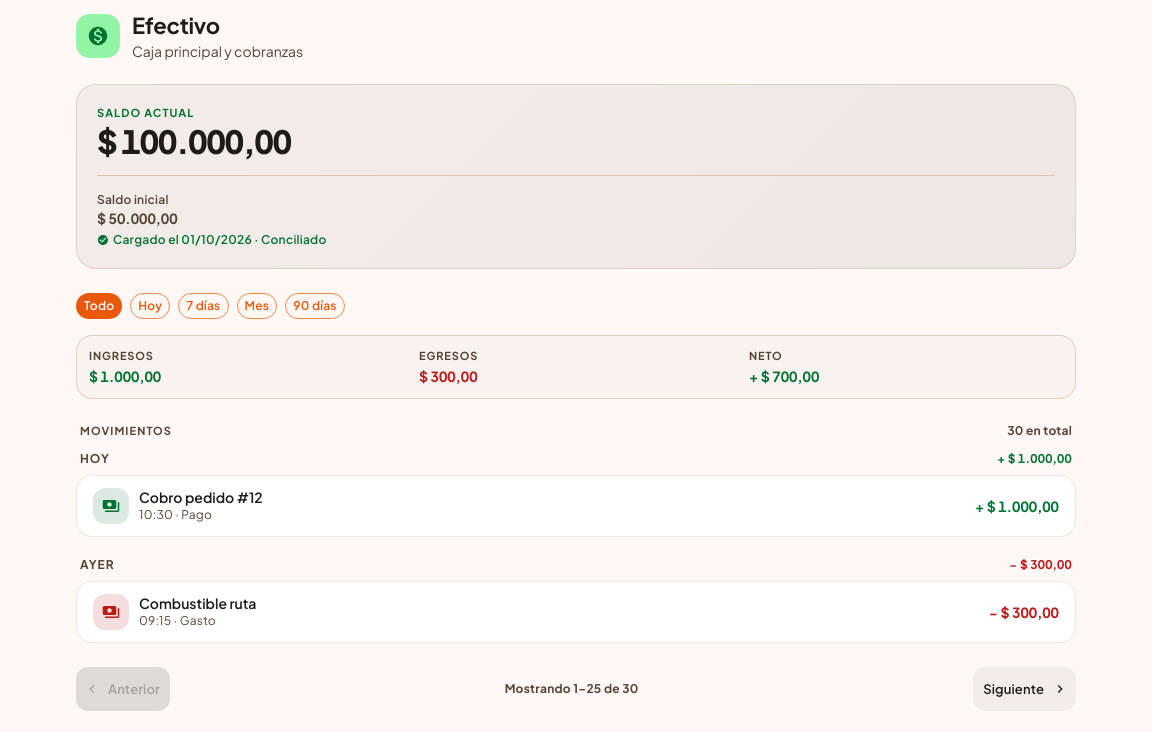
Test: AccountDetailPage — per-account ledger › requests the account with the selected preset and resets pagination
Expected: the text "Mostrando 1–25 de 30" is shown, [505,681,638,696]
Note: Page 2 first, so the preset change proves the reset back to page 1.
Click the button "Siguiente": [1025, 689] box [973,667,1076,711]
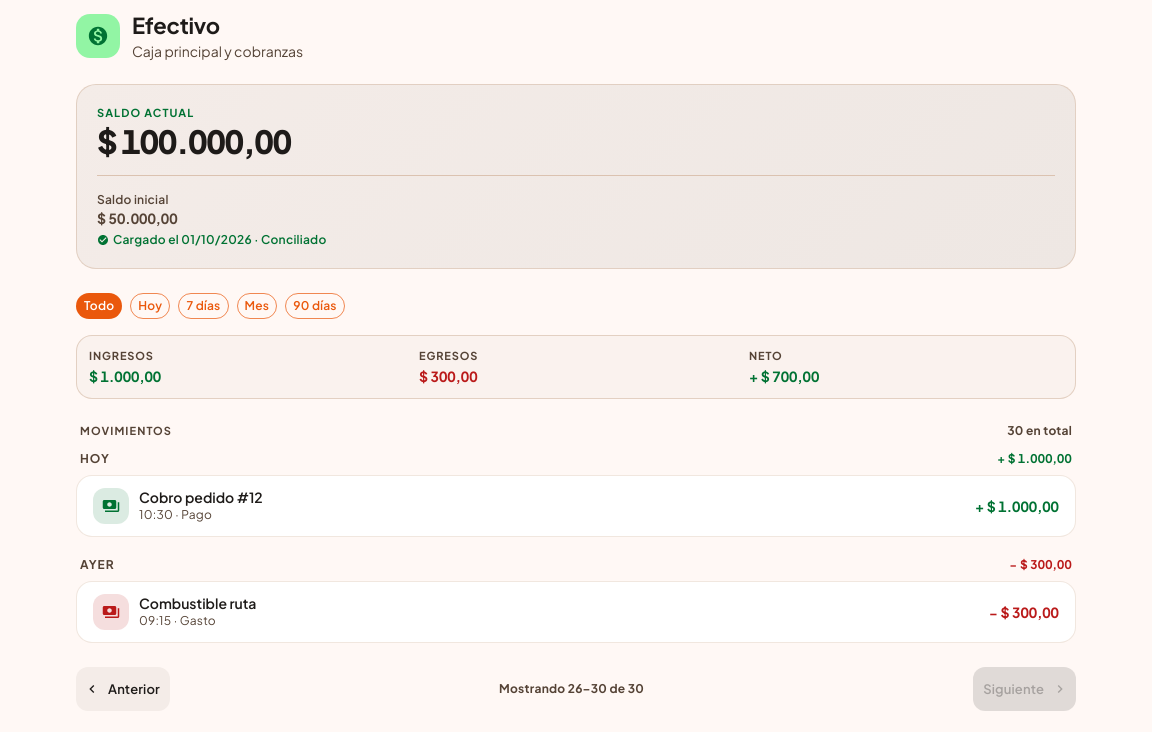
Now the text "Mostrando 26–30 de 30" is shown, box [499,681,644,696]
Click the button "Hoy": [150, 306] box [130,293,170,319]
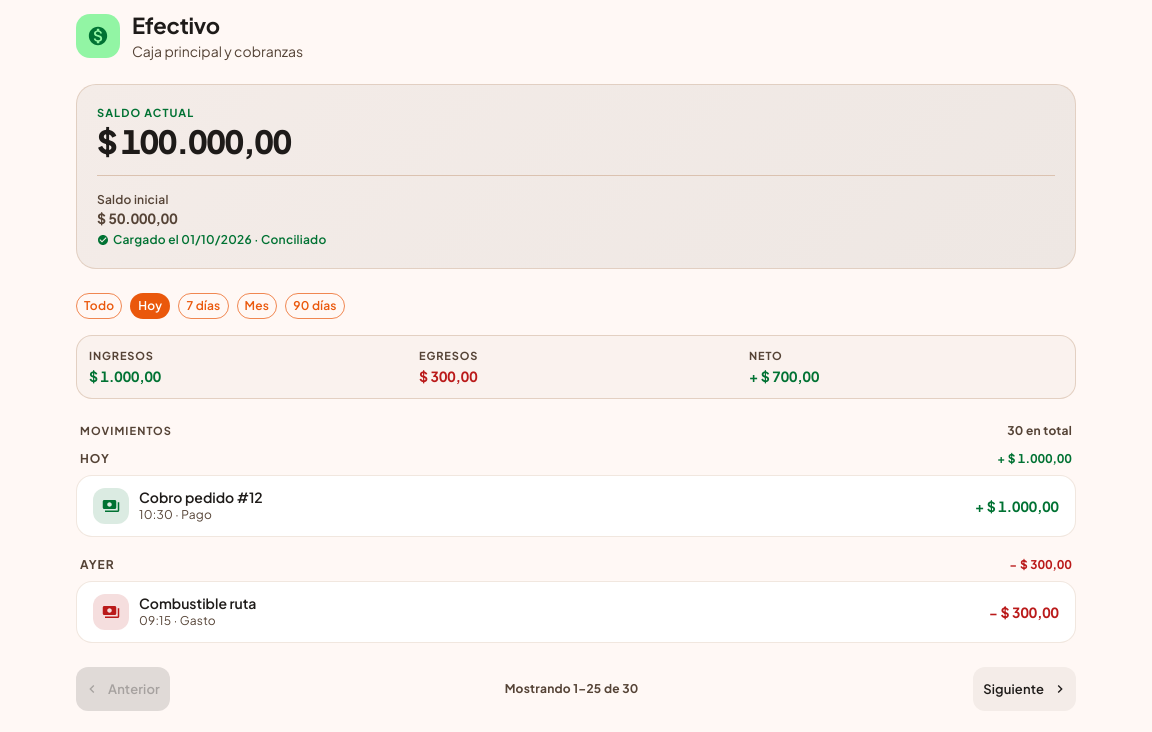
Now the text "Mostrando 1–25 de 30" is shown, box [505,681,638,696]
